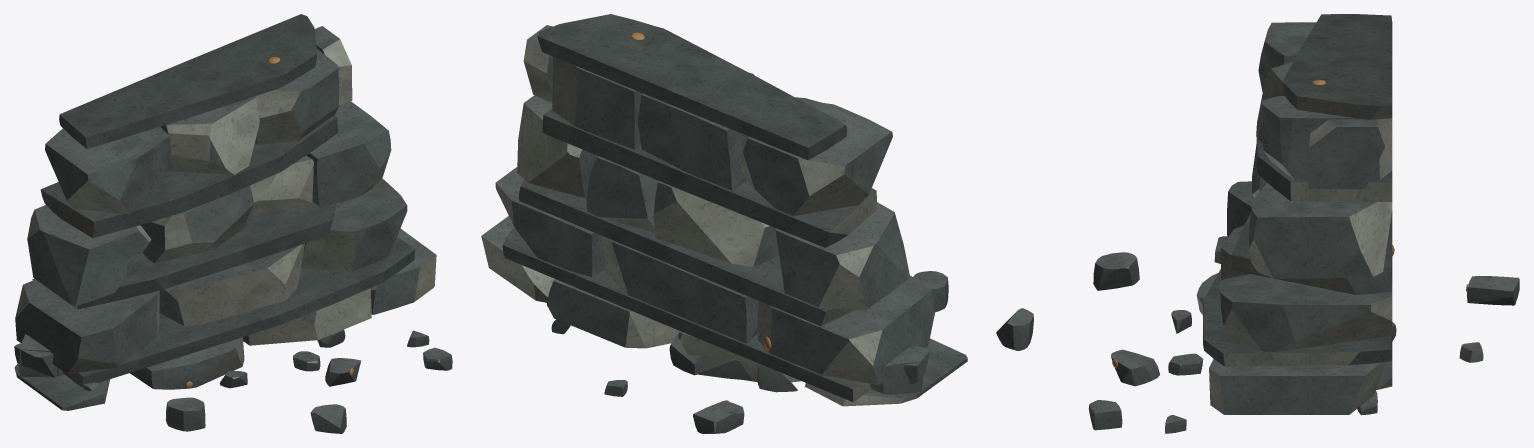
3 views of the same model, side by side, from view 1: azimuth 30°, elevation 25°; view 2: azimuth 150°, elevation 25°; view 3: azimuth 270°, elevation 25° (orthographic). The views are drawn at different scales.
Visible parts, largest first — view 1: weathered mineral, fresh chipped mineral; view 2: weathered mineral, fresh chipped mineral; view 3: weathered mineral, fresh chipped mineral.
Part boxes in pixels (bbox=[...]): weathered mineral: bbox=[14, 14, 452, 433]; fresh chipped mineral: bbox=[14, 39, 440, 410]; weathered mineral: bbox=[481, 14, 967, 433]; fresh chipped mineral: bbox=[481, 39, 925, 431]; weathered mineral: bbox=[996, 14, 1519, 433]; fresh chipped mineral: bbox=[1009, 69, 1392, 414].
Bounding box in the file's own units: 1.7 × 1.16 × 1.76.
3 materials, 2 textured.
